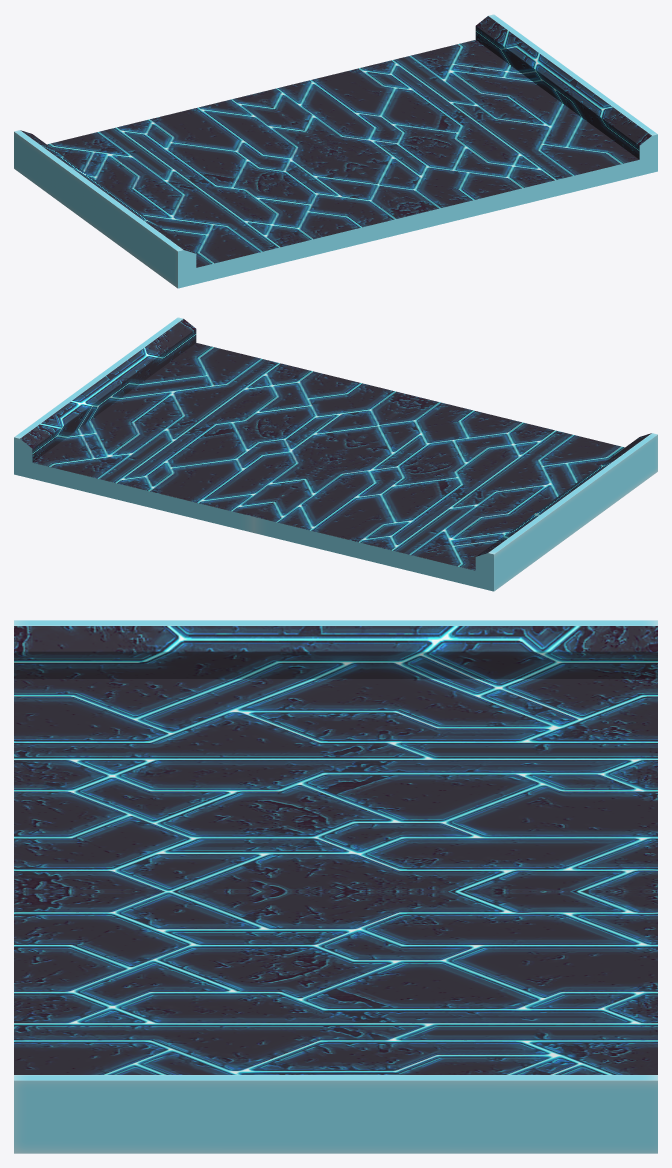
The model's file is roadtile.fbx.
3 renders of one model, top to bottom at view 1: azimuth 30°, elevation 25°; view 2: azimuth 150°, elevation 25°; view 3: azimuth 270°, elevation 25°, orthographic. The views are drawn at different scales.
Visible parts, largest first — view 1: pCube2; view 2: pCube2; view 3: pCube2.
Part boxes in pixels (x1,y1,x2,y2): pCube2: [14, 14, 657, 288]; pCube2: [14, 317, 657, 591]; pCube2: [14, 620, 657, 1153].
Size of the model in its own units: 1100 by 81.35 by 650.
Materials: 1 (1 with a texture image).
